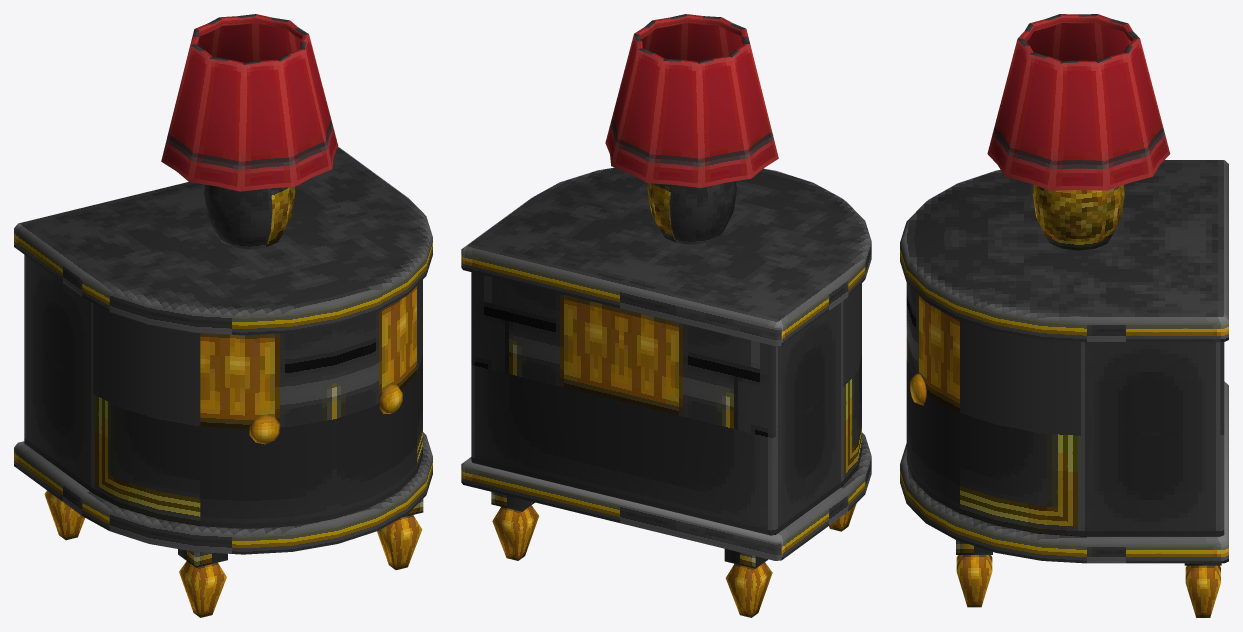
The model's file is int_gor_lamp.dae.
3 renders of one model, left to right at view 1: azimuth 30°, elevation 25°; view 2: azimuth 150°, elevation 25°; view 3: azimuth 270°, elevation 25°, orthographic. The views are drawn at different scales.
Visible parts, largest first — view 1: vsn_mesh_0_, vsn_mesh_1_, vsn_mesh_2_; view 2: vsn_mesh_0_, vsn_mesh_1_, vsn_mesh_2_; view 3: vsn_mesh_1_, vsn_mesh_0_, vsn_mesh_2_.
Boxes of the visible parts, x1,y1,x2,y2 form: vsn_mesh_0_: (24,255,423,617); vsn_mesh_1_: (14,14,432,316); vsn_mesh_2_: (14,228,432,554); vsn_mesh_0_: (471,272,861,617); vsn_mesh_1_: (461,14,871,327); vsn_mesh_2_: (461,242,871,560); vsn_mesh_1_: (900,14,1228,322); vsn_mesh_0_: (906,283,1224,617); vsn_mesh_2_: (900,243,1228,563).
Size of the model in its own units: 30.2 by 45.26 by 26.04.
3 materials, 3 textured.
